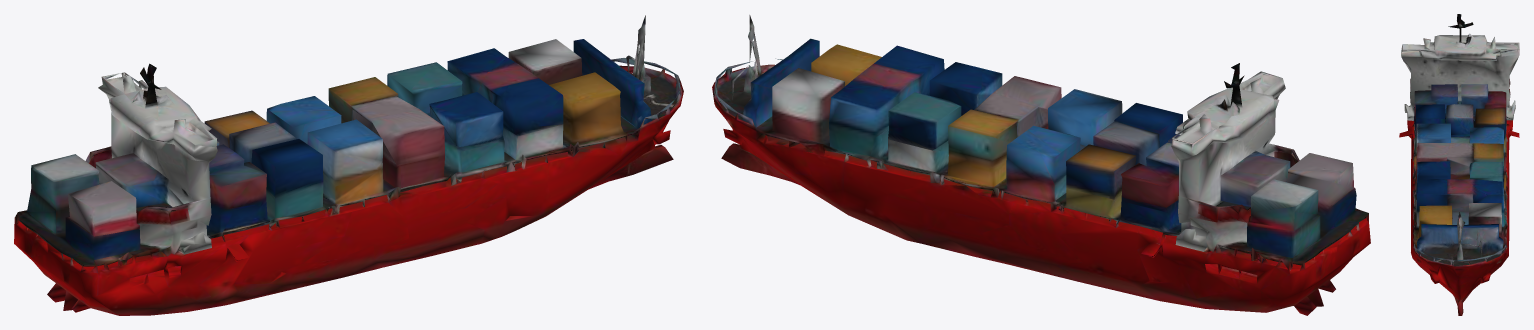
Rendered from cargo.glb.
The picture shows the model from 3 angles, left to right: view 1: azimuth 30°, elevation 25°; view 2: azimuth 150°, elevation 25°; view 3: azimuth 270°, elevation 25°; orthographic projection. The views are drawn at different scales.
Parts seen in each view (by area): view 1: tripo_node_5c297628-f402-480f-87c1-caad7c8d9619; view 2: tripo_node_5c297628-f402-480f-87c1-caad7c8d9619; view 3: tripo_node_5c297628-f402-480f-87c1-caad7c8d9619.
Boxes of the visible parts, x1=… form: tripo_node_5c297628-f402-480f-87c1-caad7c8d9619: x1=14, y1=15, x2=683, y2=315; tripo_node_5c297628-f402-480f-87c1-caad7c8d9619: x1=712, y1=15, x2=1370, y2=315; tripo_node_5c297628-f402-480f-87c1-caad7c8d9619: x1=1399, y1=14, x2=1519, y2=315.
Size of the model in its own units: 1 by 0.3445 by 0.2624.
1 material, 1 textured.
